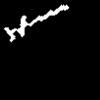double_crochet: (5, 5, 68, 41)
